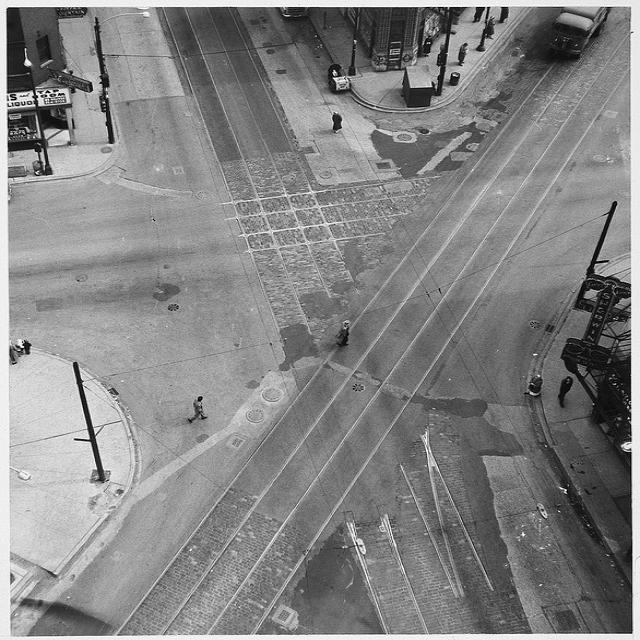Vehicle: (551, 7, 611, 60)
